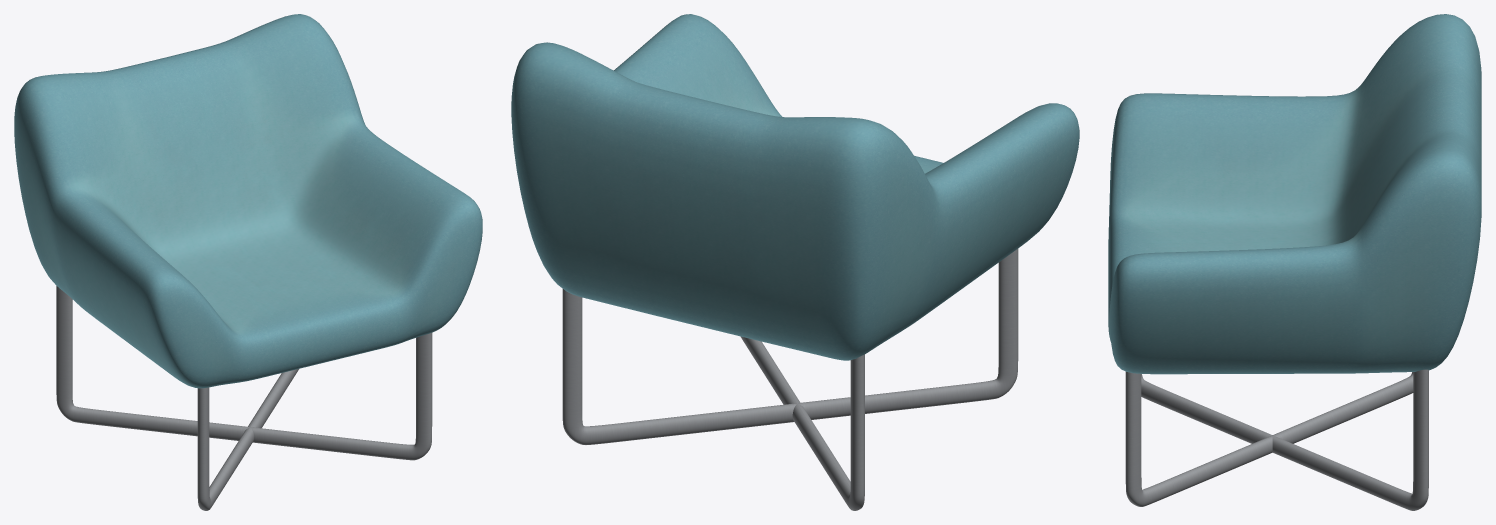
The model's file is Chair.glb.
3 views of the same model, side by side, from view 1: azimuth 30°, elevation 25°; view 2: azimuth 150°, elevation 25°; view 3: azimuth 270°, elevation 25° (orthographic). The views are drawn at different scales.
Visible parts, largest first — view 1: Polster.002, Foot 2.002, Foot 1.002; view 2: Polster.002, Foot 1.002, Foot 2.002; view 3: Polster.002, Foot 2.002, Foot 1.002.
Part boxes in pixels (<box>): Polster.002: <box>14,14,482,388</box>; Foot 2.002: <box>56,286,432,460</box>; Foot 1.002: <box>197,369,298,510</box>; Polster.002: <box>511,14,1079,360</box>; Foot 1.002: <box>562,249,1018,444</box>; Foot 2.002: <box>740,336,864,510</box>; Polster.002: <box>1108,14,1481,374</box>; Foot 2.002: <box>1125,372,1413,506</box>; Foot 1.002: <box>1141,369,1428,510</box>.
Size of the model in its own units: 0.7861 by 0.7599 by 0.701.
2 materials, 2 textured.
